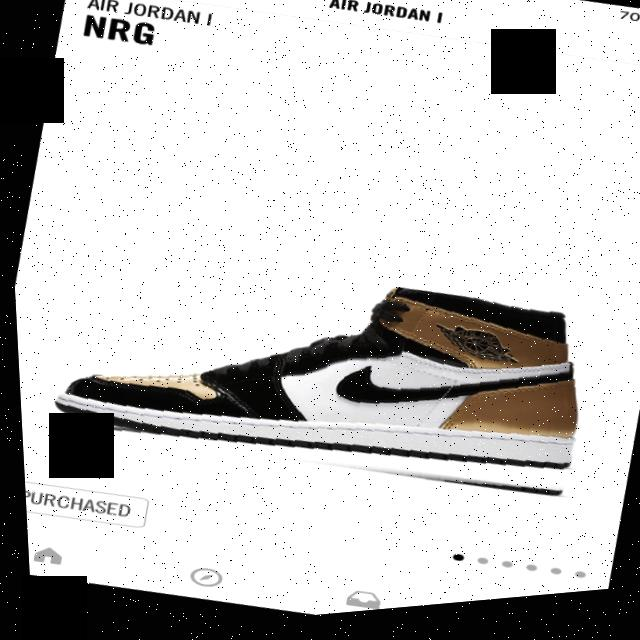shoe: (15, 204, 615, 569)
